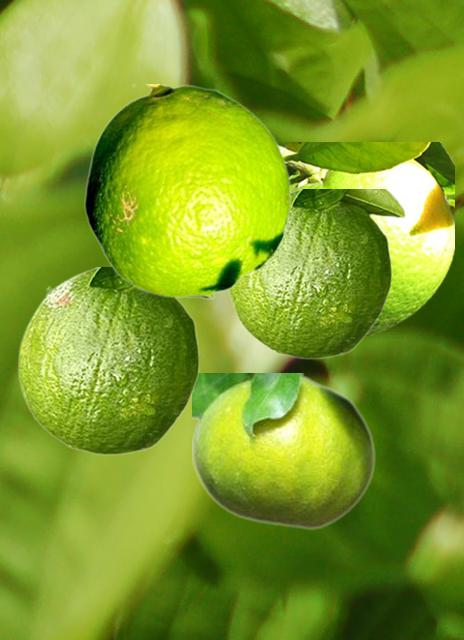dalandan: (84, 84, 290, 297), (17, 267, 214, 454), (279, 142, 453, 334), (227, 189, 405, 358), (192, 373, 375, 529)
